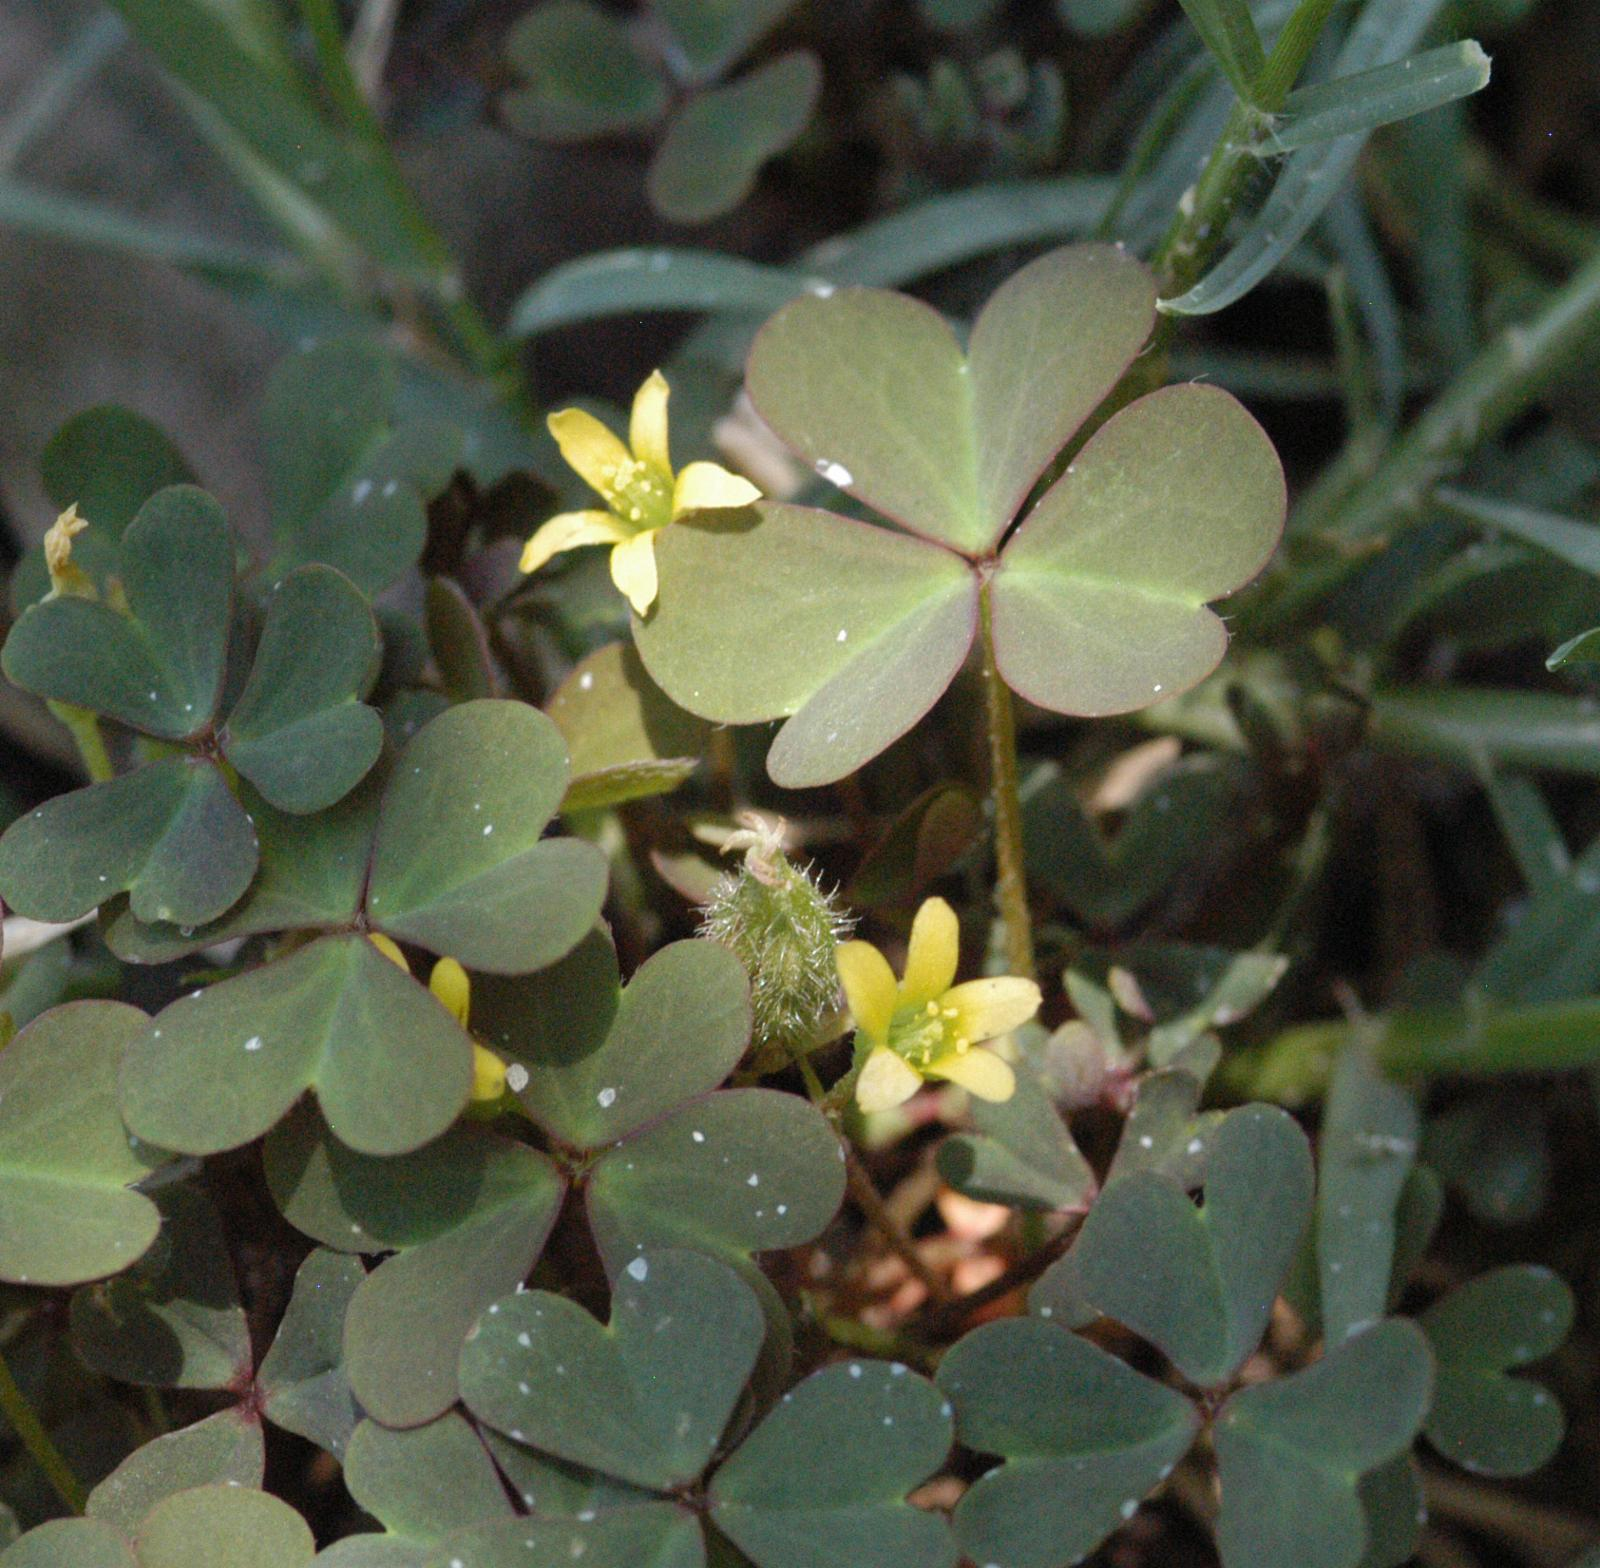oxalis: (34, 504, 1518, 1568), (590, 220, 1303, 801)
